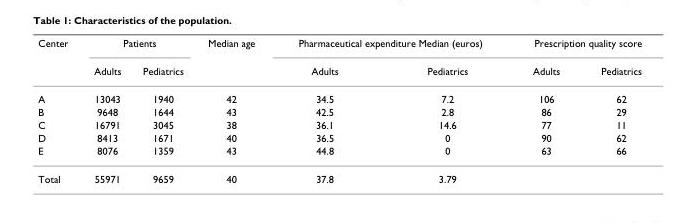table: (37, 36, 641, 184)
table column: (382, 36, 506, 184), (276, 36, 382, 184), (195, 36, 276, 184), (506, 36, 579, 184), (131, 36, 195, 184), (579, 36, 641, 184), (80, 36, 131, 184), (37, 36, 80, 184)
table column header: (37, 36, 641, 84)
table row: (37, 56, 641, 84), (37, 143, 641, 164), (37, 36, 641, 56), (37, 84, 641, 104), (37, 164, 641, 184), (37, 104, 641, 117), (37, 117, 641, 130), (37, 130, 641, 143)
table spanning cell: (276, 36, 506, 56), (195, 36, 276, 84), (506, 36, 641, 56), (80, 36, 195, 56), (37, 36, 80, 84)
